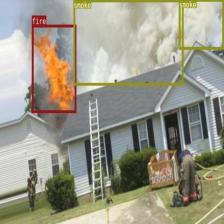fire: (32, 23, 76, 111)
smoke: (72, 0, 182, 84), (178, 0, 224, 49)
